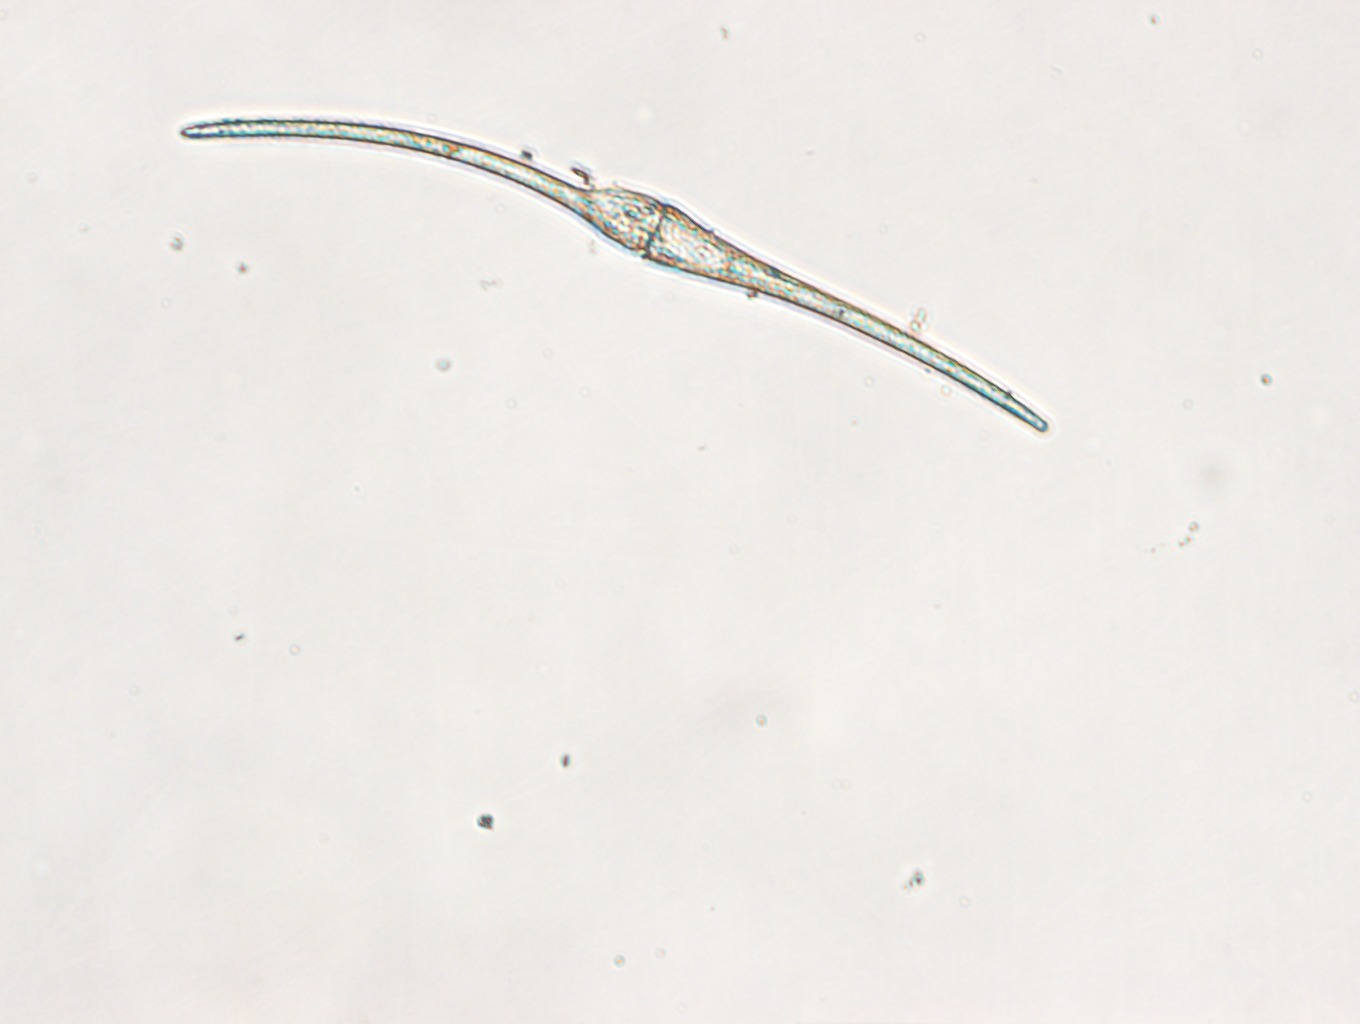ceratium fusus: (172, 113, 1053, 438)
